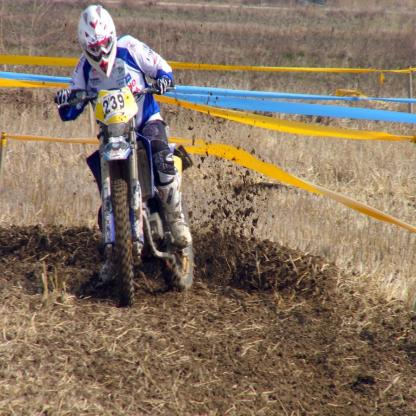Helmet: (72, 4, 117, 67)
